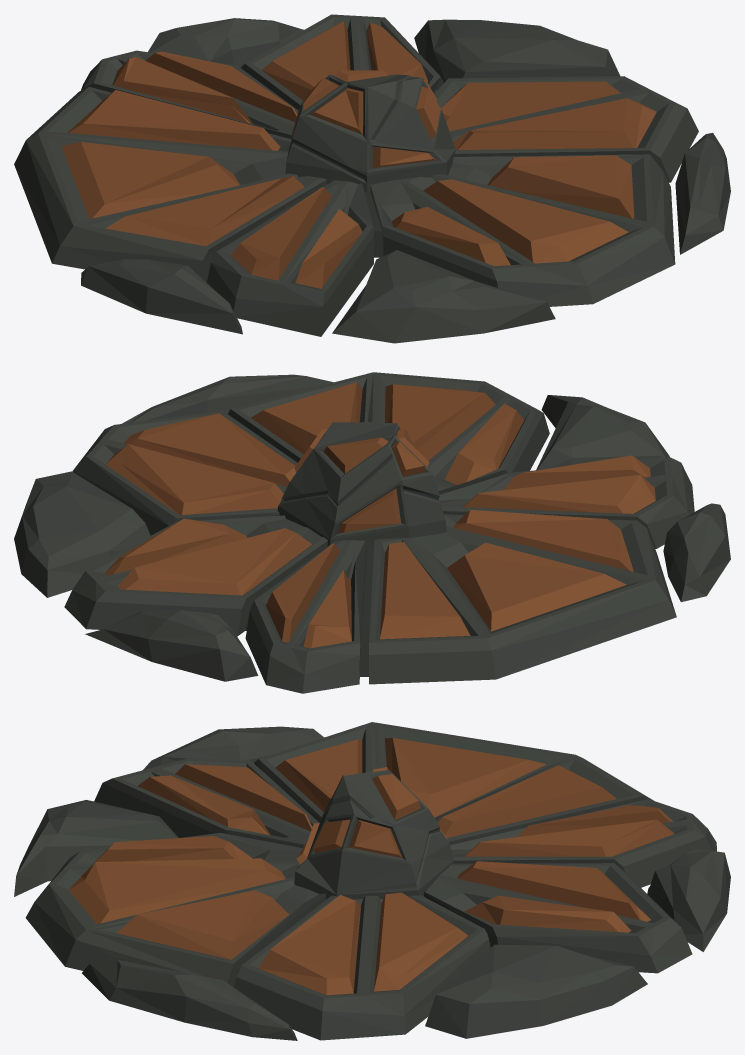
Rendered from SM_Copper_Node.fbx.
The picture shows the model from 3 angles, top to bottom: view 1: azimuth 30°, elevation 25°; view 2: azimuth 150°, elevation 25°; view 3: azimuth 270°, elevation 25°; orthographic projection. The views are drawn at different scales.
Parts seen in each view (by area): view 1: SM_Copper_Node_Base, SM_Copper_Node_Ore; view 2: SM_Copper_Node_Base, SM_Copper_Node_Ore; view 3: SM_Copper_Node_Base, SM_Copper_Node_Ore.
Part boxes in pixels (left/top/right/bottom): SM_Copper_Node_Base: left=14, top=14, right=730, bottom=343; SM_Copper_Node_Ore: left=285, top=70, right=455, bottom=192; SM_Copper_Node_Base: left=14, top=372, right=730, bottom=693; SM_Copper_Node_Ore: left=277, top=422, right=446, bottom=548; SM_Copper_Node_Base: left=14, top=722, right=730, bottom=1040; SM_Copper_Node_Ore: left=294, top=767, right=454, bottom=899.
Bounding box in the file's own units: 191 × 33.37 × 194.
